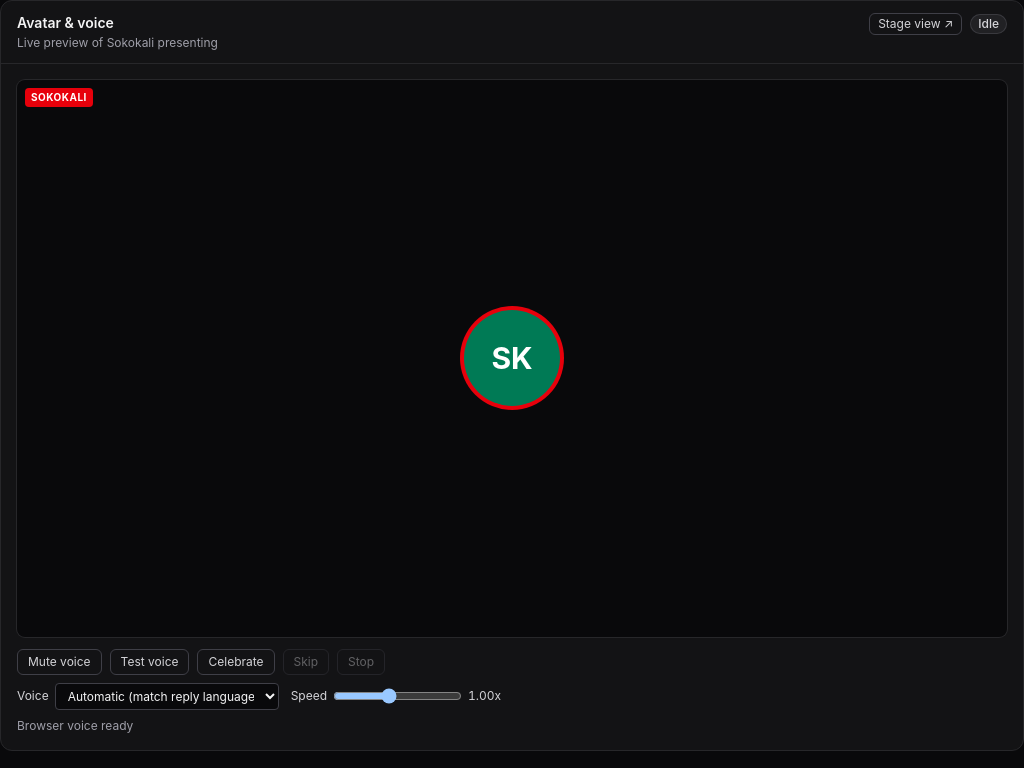
Scenario: AvatarPanel without browser voice or WebGL › stop clears the queue
Click the button "Test voice" at (150, 662), box [110,649,190,675]
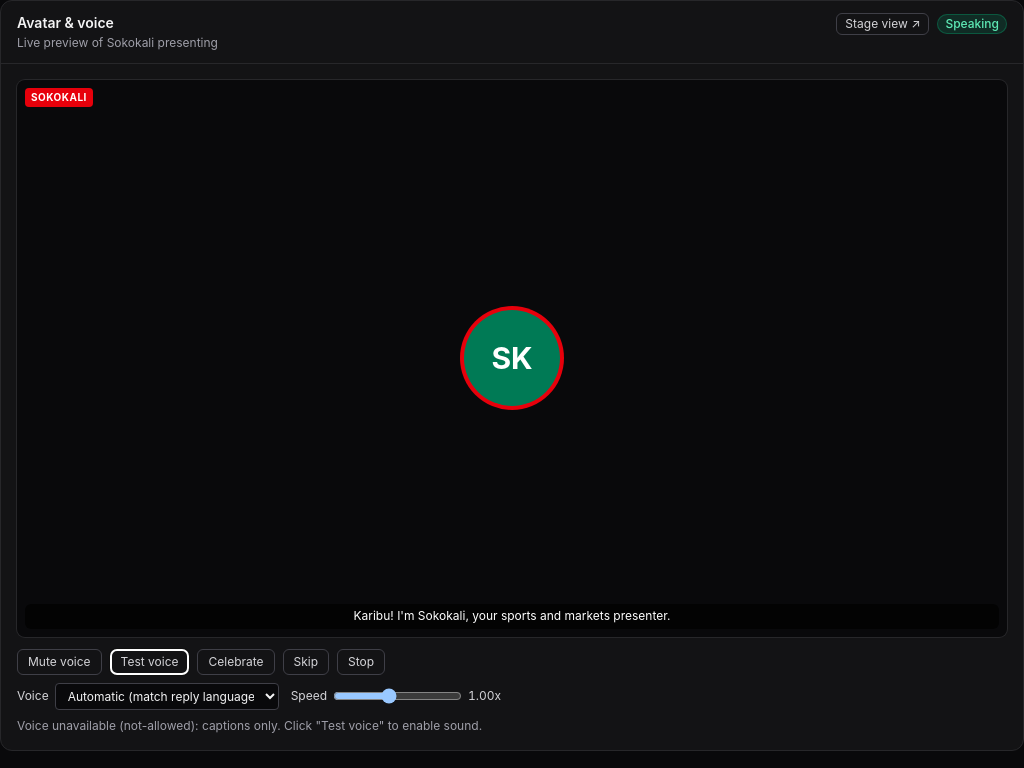
Click the button "Stop" at (361, 662), box [337,649,385,675]
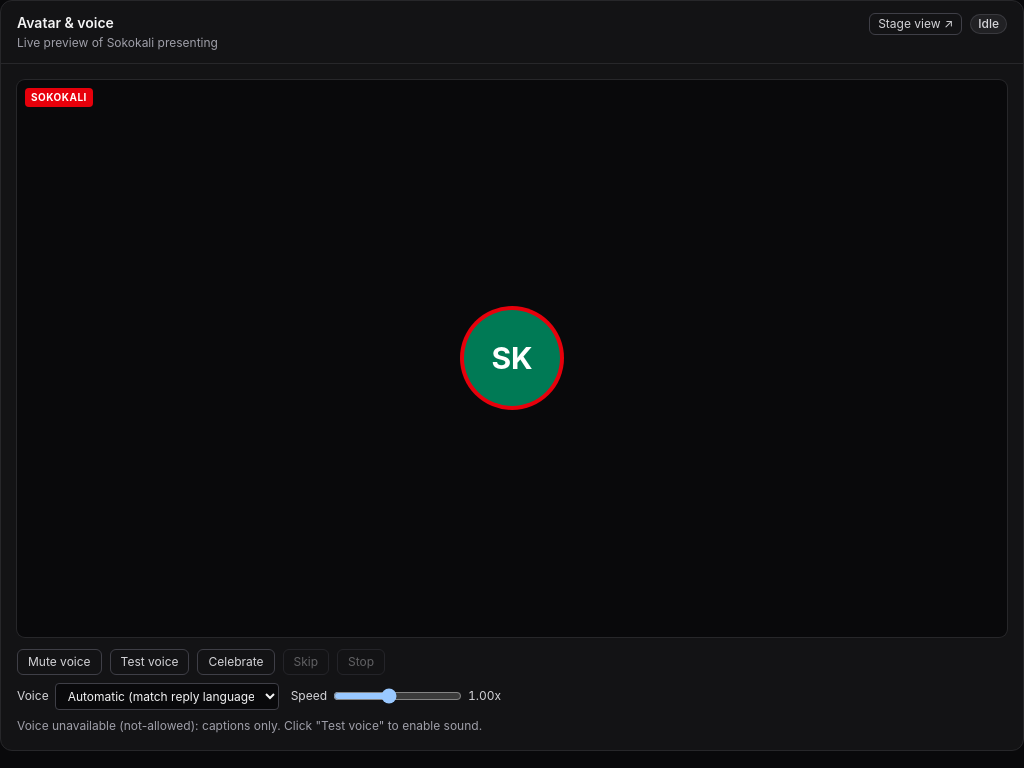
Expected: the text "Idle" is shown, [970,14,1007,34]
